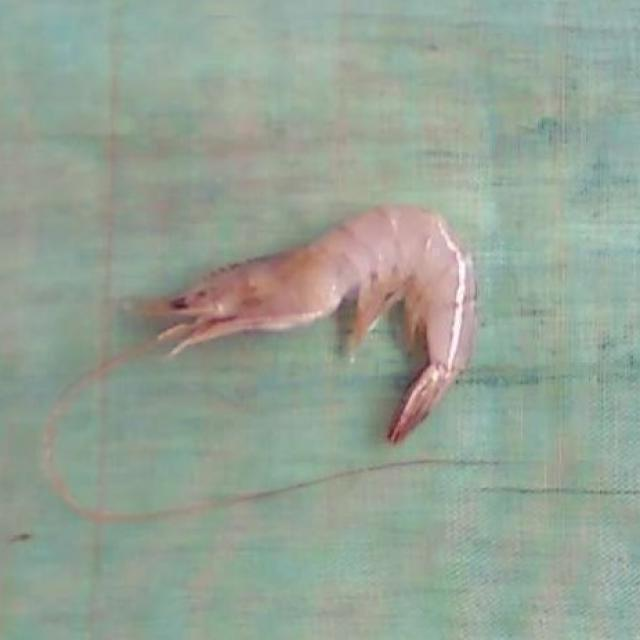shrimp: (145, 206, 476, 443)
